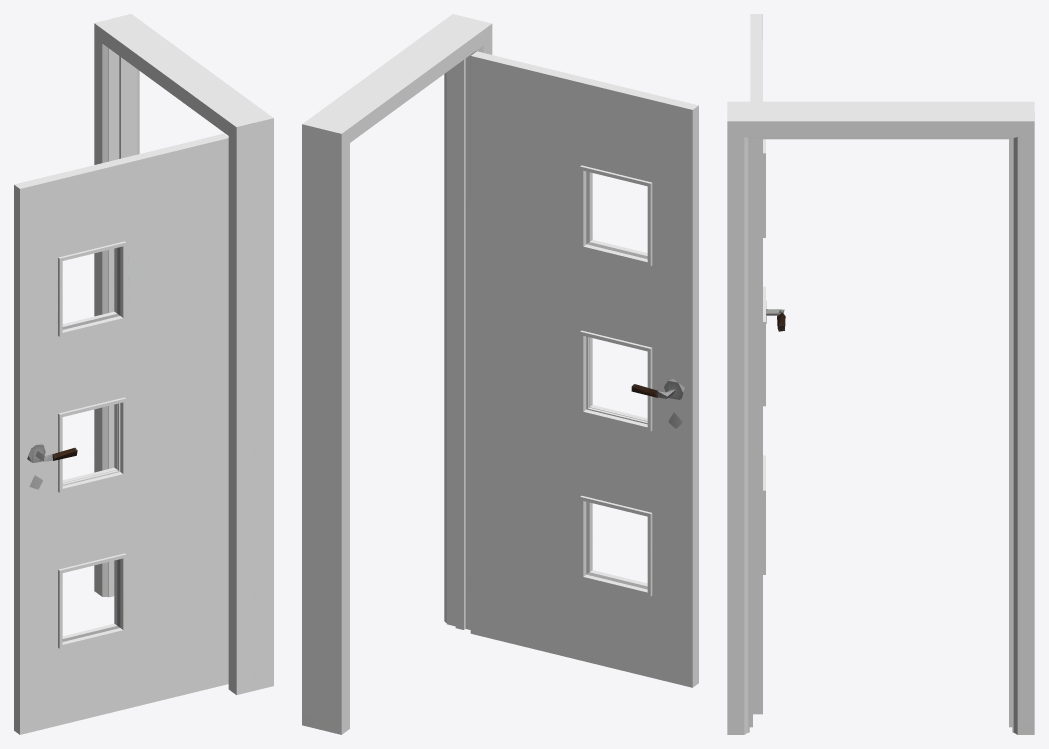
Rendered from Door0025open.obj.
3 renders of one model, left to right at view 1: azimuth 30°, elevation 25°; view 2: azimuth 150°, elevation 25°; view 3: azimuth 270°, elevation 25°, orthographic. The views are drawn at different scales.
Bounding box in the file's own units: 0.951 × 2.12 × 0.964.
Materials: 1 (1 with a texture image).
